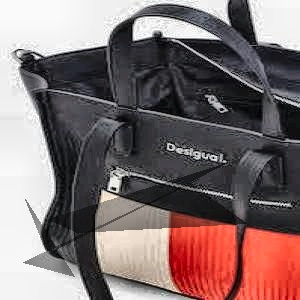desigual: (136, 85, 300, 221)
